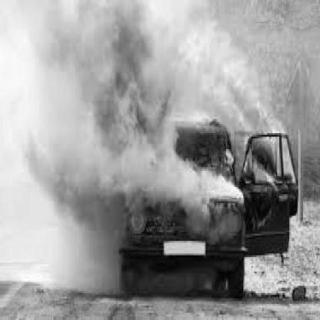Fire: (108, 72, 194, 180), (226, 143, 236, 166), (265, 170, 277, 182)
Smoke: (35, 45, 111, 228), (200, 50, 262, 104), (33, 8, 97, 54), (112, 9, 162, 67), (70, 232, 119, 282)
